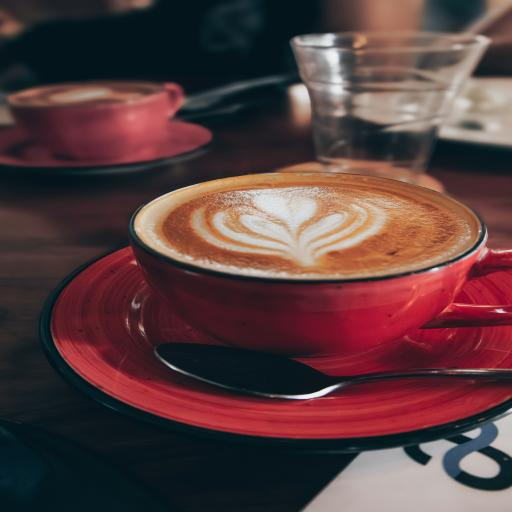cup: (130, 170, 512, 358), (8, 81, 184, 161)
